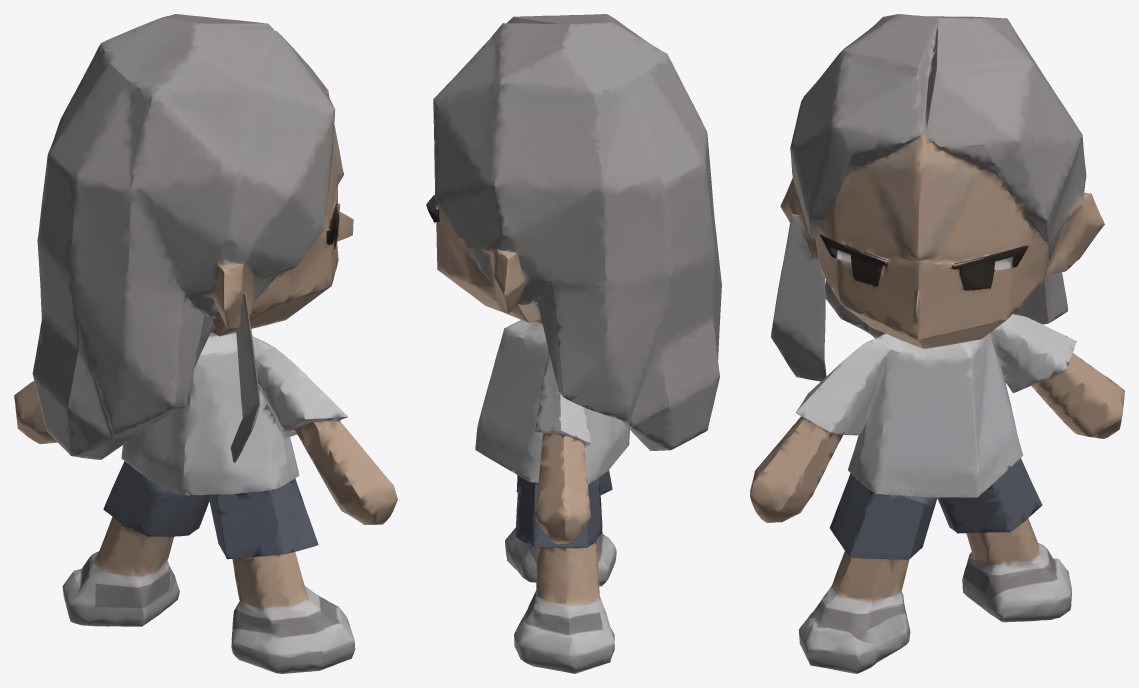
Rendered from dressed.glb.
3 views of the same model, side by side, from view 1: azimuth 30°, elevation 25°; view 2: azimuth 150°, elevation 25°; view 3: azimuth 270°, elevation 25° (orthographic). The views are drawn at different scales.
Parts seen in each view (by area): view 1: tripo_node_d3ba1476-0e6e-4ea9-83ee-9dfb6b350a10; view 2: tripo_node_d3ba1476-0e6e-4ea9-83ee-9dfb6b350a10; view 3: tripo_node_d3ba1476-0e6e-4ea9-83ee-9dfb6b350a10.
Boxes of the visible parts, <box> form: tripo_node_d3ba1476-0e6e-4ea9-83ee-9dfb6b350a10: <box>14,14,397,673</box>; tripo_node_d3ba1476-0e6e-4ea9-83ee-9dfb6b350a10: <box>426,14,721,673</box>; tripo_node_d3ba1476-0e6e-4ea9-83ee-9dfb6b350a10: <box>750,14,1124,673</box>.
Size of the model in its own units: 0.4898 by 1 by 0.5589.
Materials: 1 (1 with a texture image).
